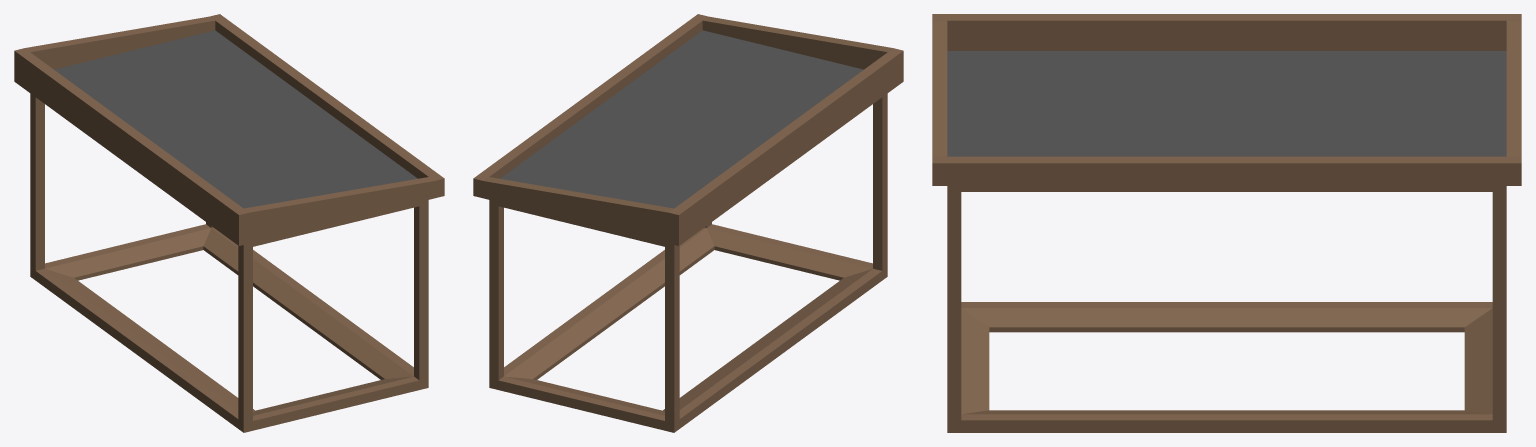
Rendered from Bancarella_02.fbx.
3 renders of one model, left to right at view 1: azimuth 30°, elevation 25°; view 2: azimuth 150°, elevation 25°; view 3: azimuth 270°, elevation 25°, orthographic. The views are drawn at different scales.
Visible parts, largest first — view 1: Bancarella2; view 2: Bancarella2; view 3: Bancarella2.
Part boxes in pixels (x1,y1,x2,y2): Bancarella2: (14,14,444,432); Bancarella2: (473,14,903,432); Bancarella2: (932,14,1521,432).
Bounding box in the file's own units: 1.11 × 2.11 × 1.16.
